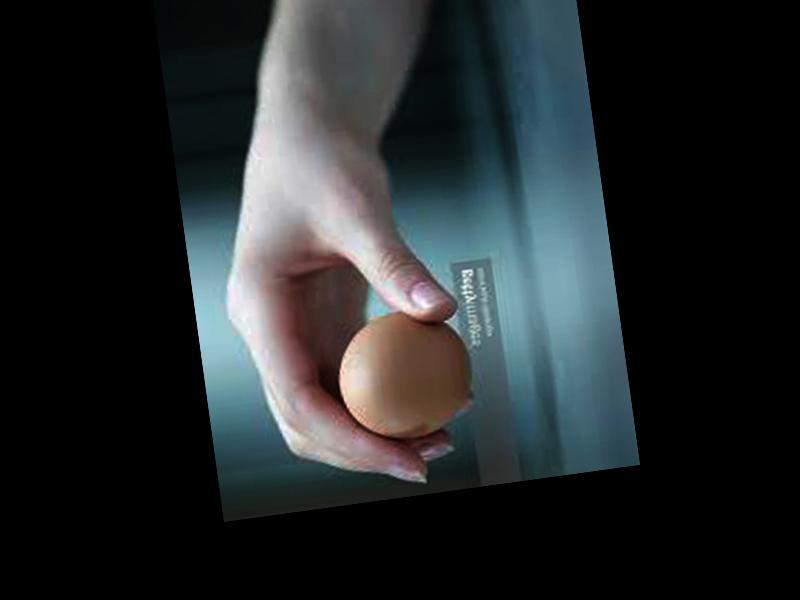Eggs: (328, 300, 481, 447)
